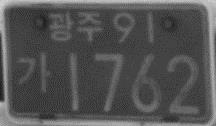1: (66, 51, 82, 113), (144, 8, 157, 46)
2: (166, 54, 202, 117)
6: (130, 53, 163, 114)
7: (92, 51, 124, 112)
9: (111, 10, 137, 45)
가: (14, 51, 51, 95)
광주_O: (46, 10, 104, 43)
